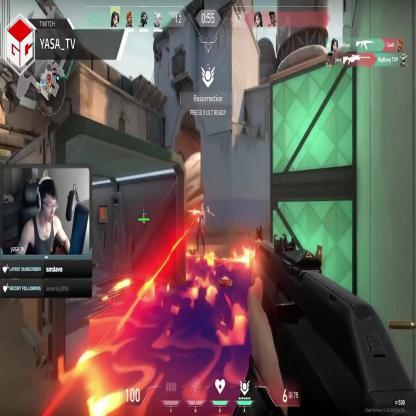enemy: (195, 208, 206, 252)
enemy_head: (198, 208, 202, 218)
